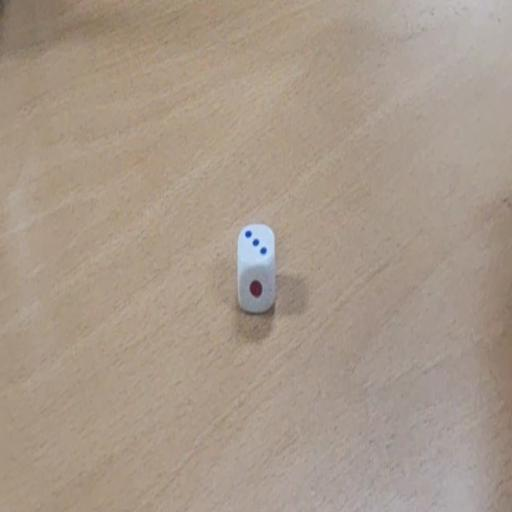dice_3: (236, 224, 276, 314)
